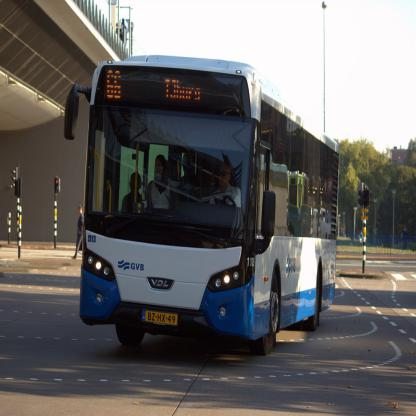Bus: (63, 57, 339, 356)
